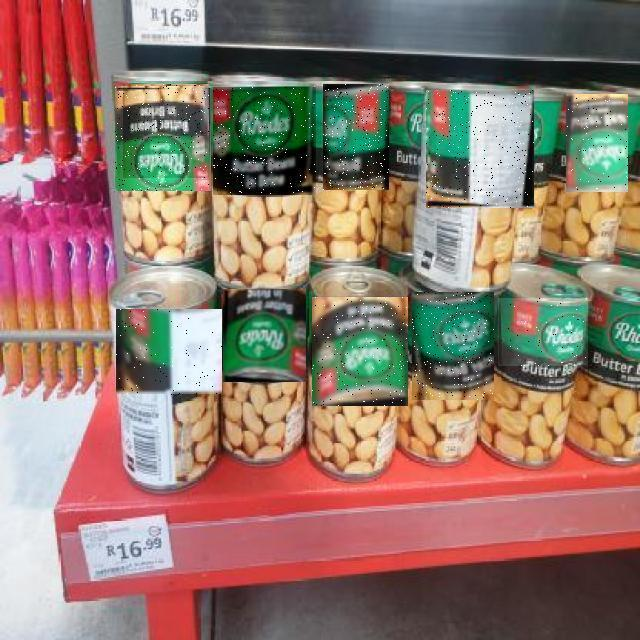Beans: (426, 90, 534, 208), (214, 87, 318, 195), (312, 297, 408, 406), (115, 86, 211, 191), (116, 310, 222, 396), (412, 292, 494, 400), (123, 85, 209, 179), (223, 289, 306, 382), (323, 85, 389, 191), (498, 299, 588, 367), (566, 94, 628, 192)
